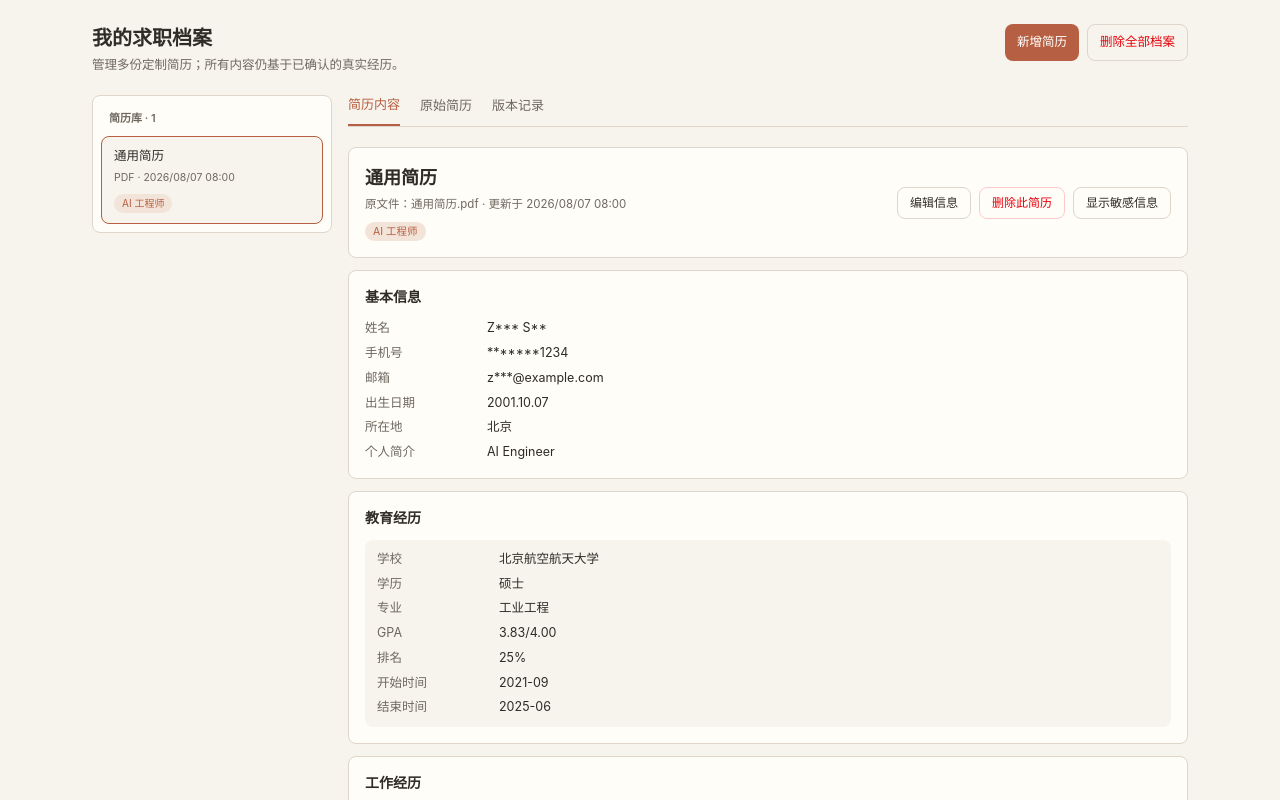
Test case: CareerProfileView › edits the selected resume name and target roles
Check: the text "北京航空航天大学" is shown, box [499,551,599,566]
Click the button "编辑信息" at (934, 203), box [897,187,971,219]
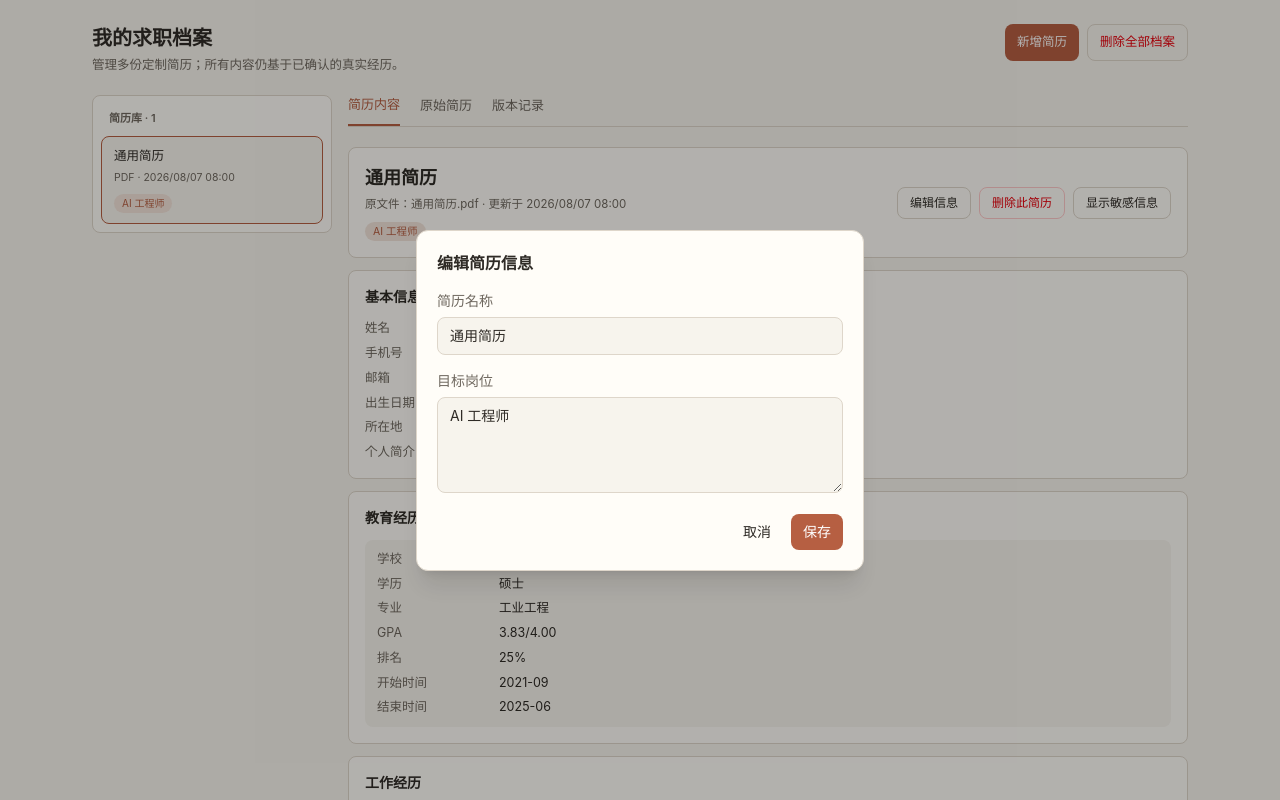
Replace the text in the field labelled "简历名称" with "AI 产品经理简历" at (640, 336), box [437,316,843,354]
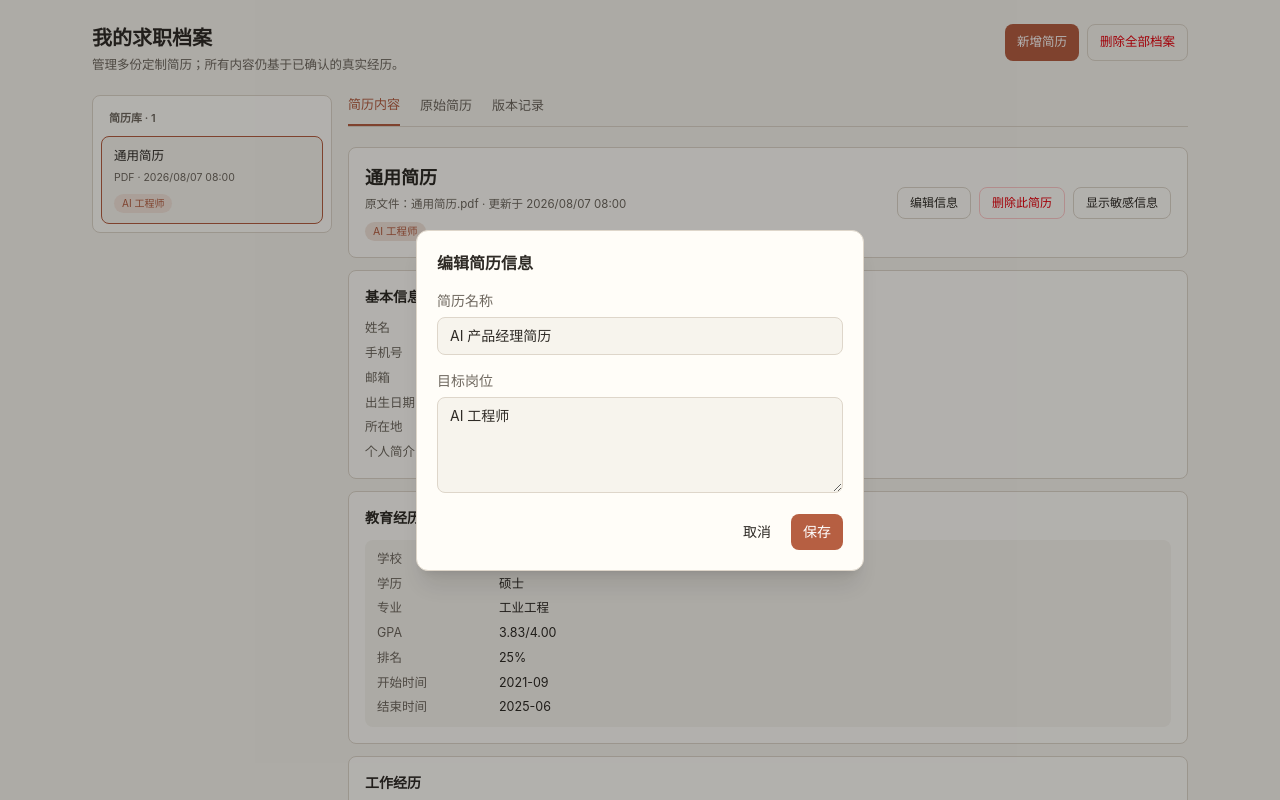
Replace the text in the text box labelled "目标岗位" with "AI 产品经理, Agent 产品经理" at (640, 444), box [437,396,843,492]
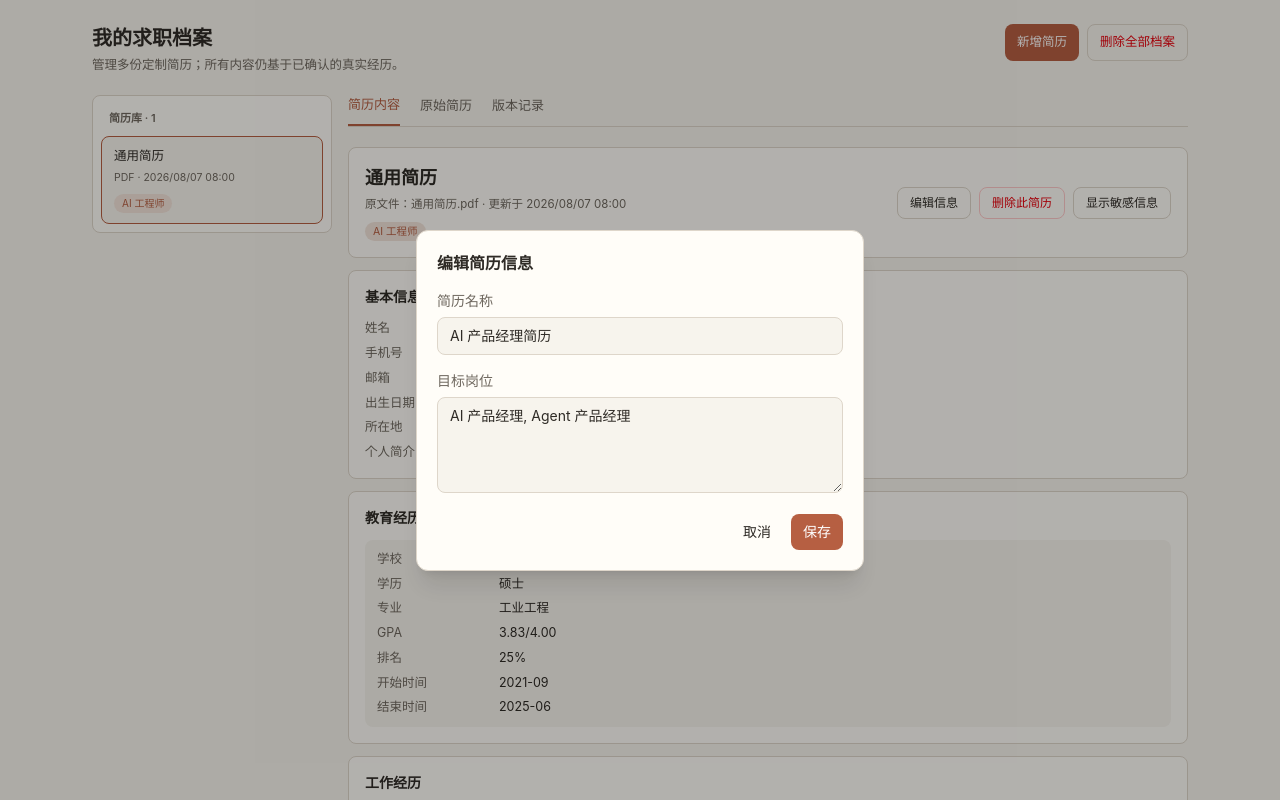
Click the button "保存" at (817, 532), box [791,514,843,550]
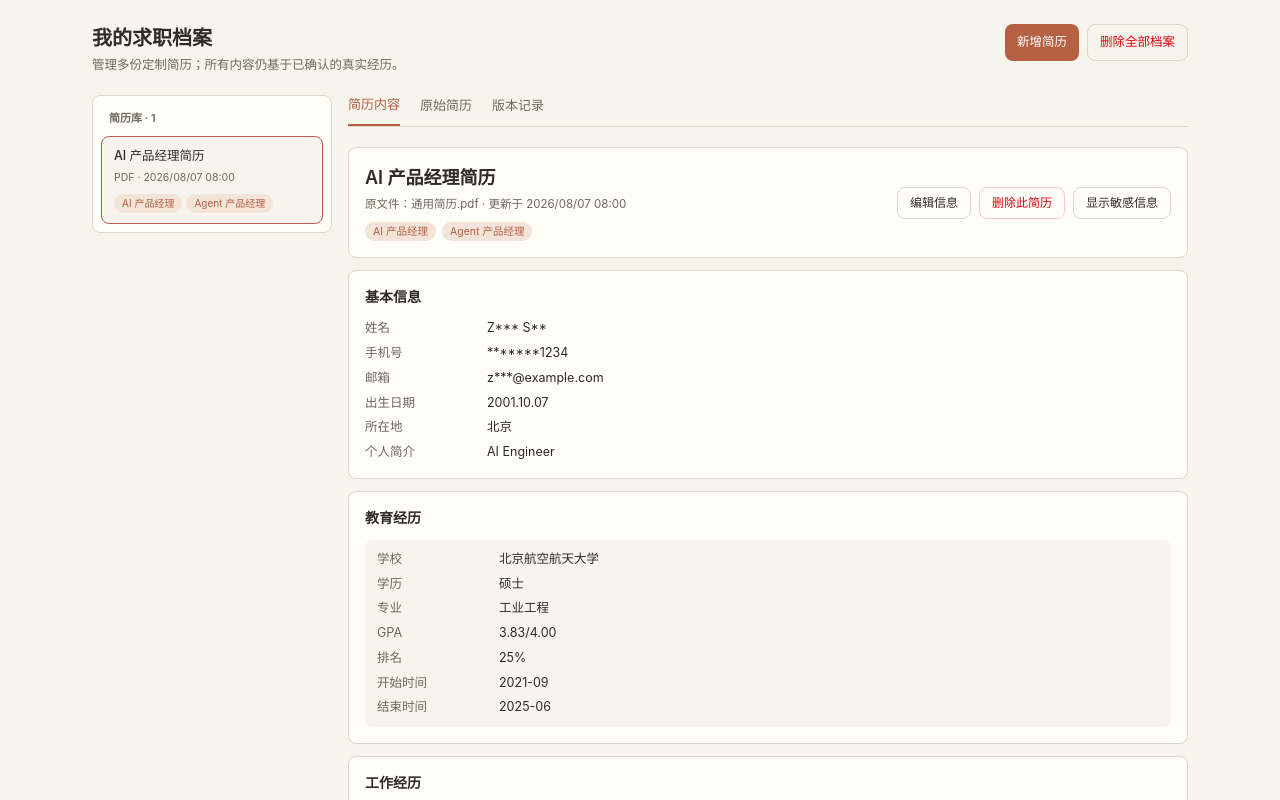
Check: the text "AI 产品经理简历" is shown 2 times, box [114,148,205,163]; [365,167,496,188]
Check: the text "AI 产品经理" is shown 2 times, box [114,194,182,213]; [365,222,436,241]
Check: the text "Agent 产品经理" is shown 2 times, box [186,194,273,213]; [442,222,532,241]
